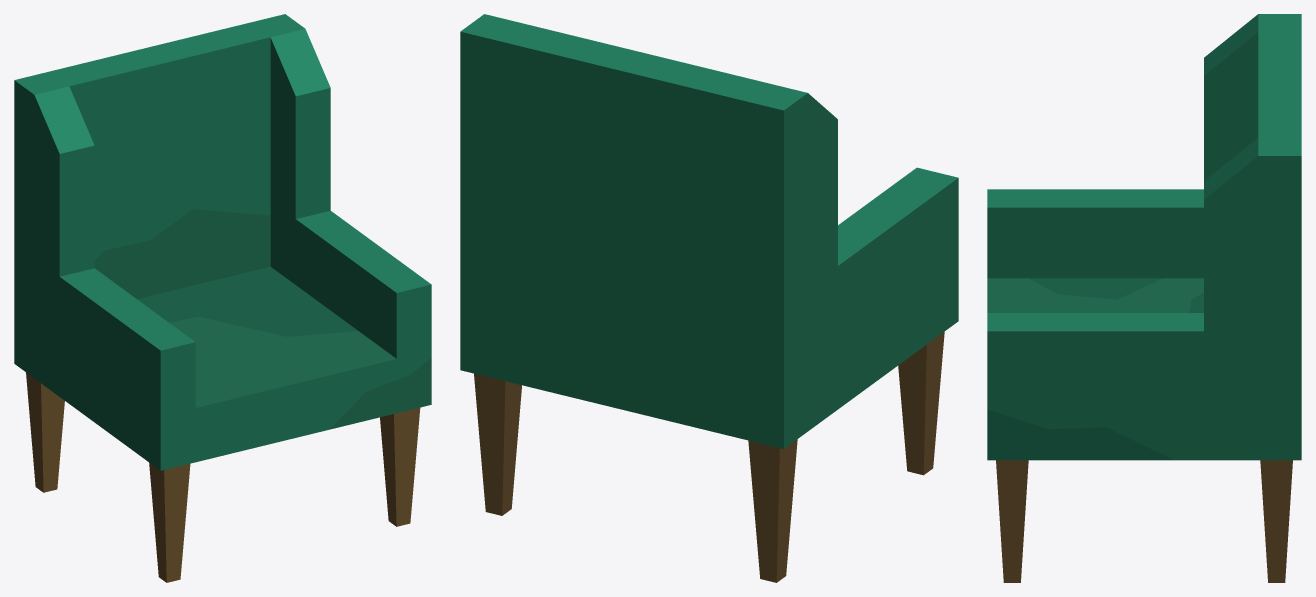
File: AI_Prop_Chair_01.fbx
3 renders of one model, left to right at view 1: azimuth 30°, elevation 25°; view 2: azimuth 150°, elevation 25°; view 3: azimuth 270°, elevation 25°, orthographic. The views are drawn at different scales.
Parts seen in each view (by area): view 1: AI_Prop_Chair_01; view 2: AI_Prop_Chair_01; view 3: AI_Prop_Chair_01.
Part boxes in pixels (x1=…): AI_Prop_Chair_01: x1=14, y1=14, x2=431, y2=582; AI_Prop_Chair_01: x1=460, y1=14, x2=958, y2=582; AI_Prop_Chair_01: x1=987, y1=14, x2=1301, y2=582.
Size of the model in its own units: 1.54 by 2.2 by 1.44.
